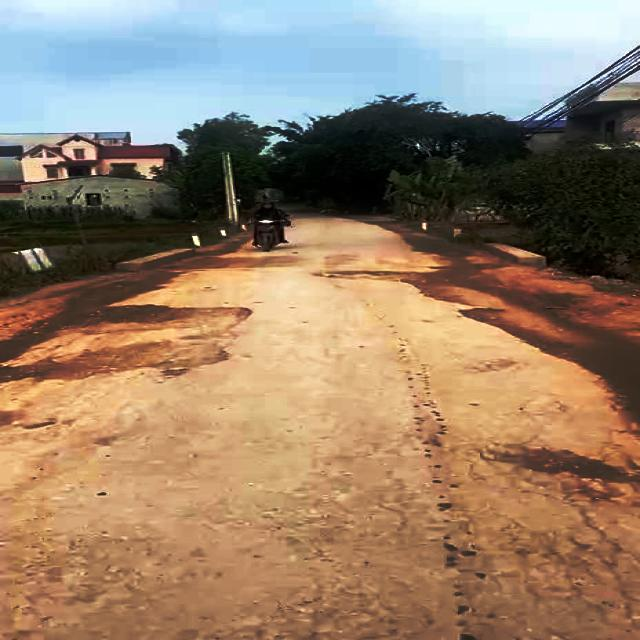pothole: (1, 339, 233, 382), (66, 303, 260, 333), (317, 267, 429, 284)
